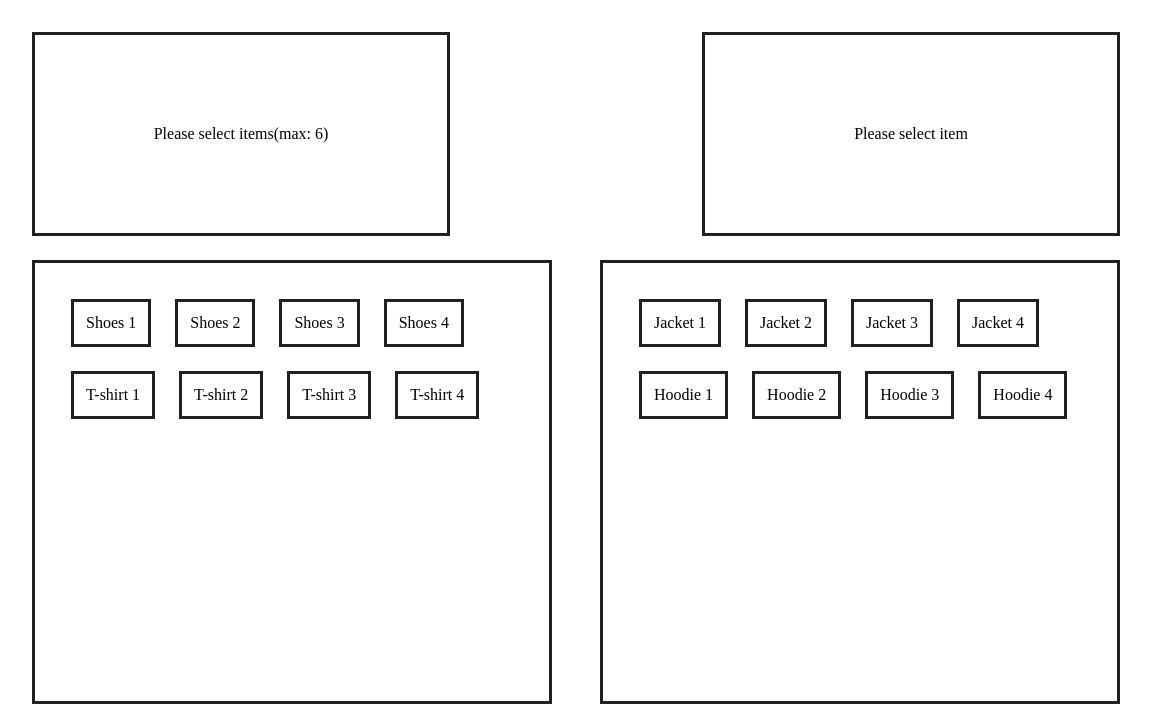
Test case: SideComponent › Cheking left side
Click the text "Shoes 1".
click(111, 323)  # box [71, 299, 151, 347]
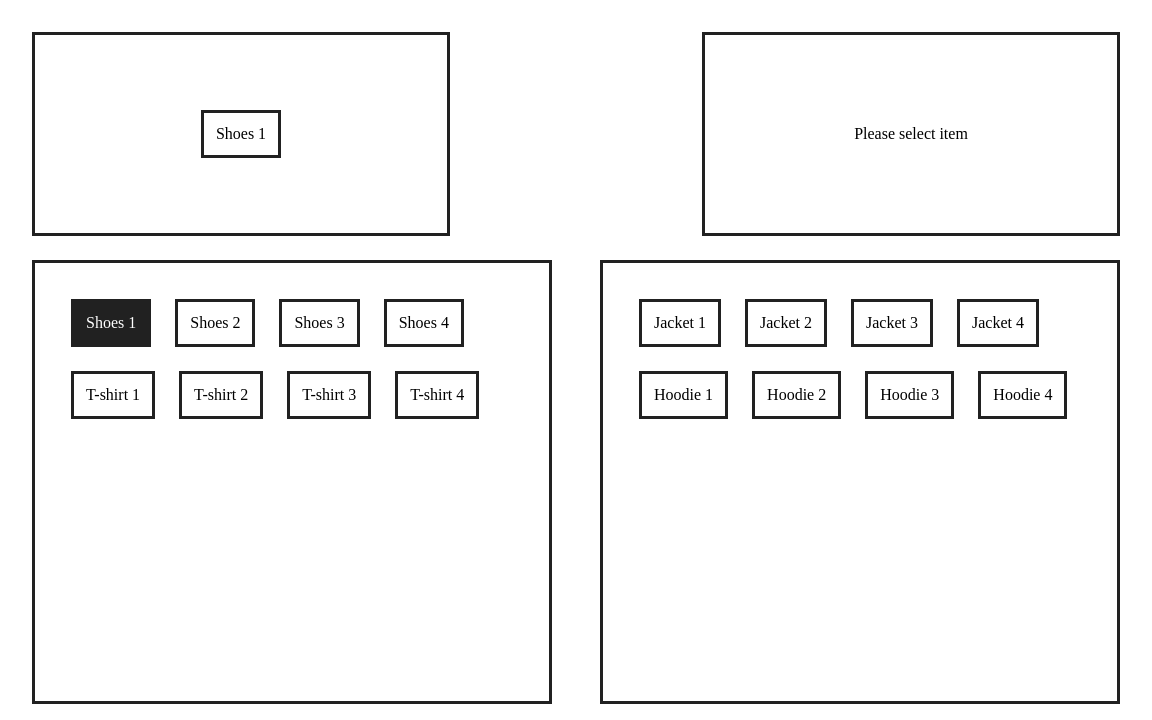
Click the text "Shoes 3".
click(320, 323)  # box [280, 299, 360, 347]
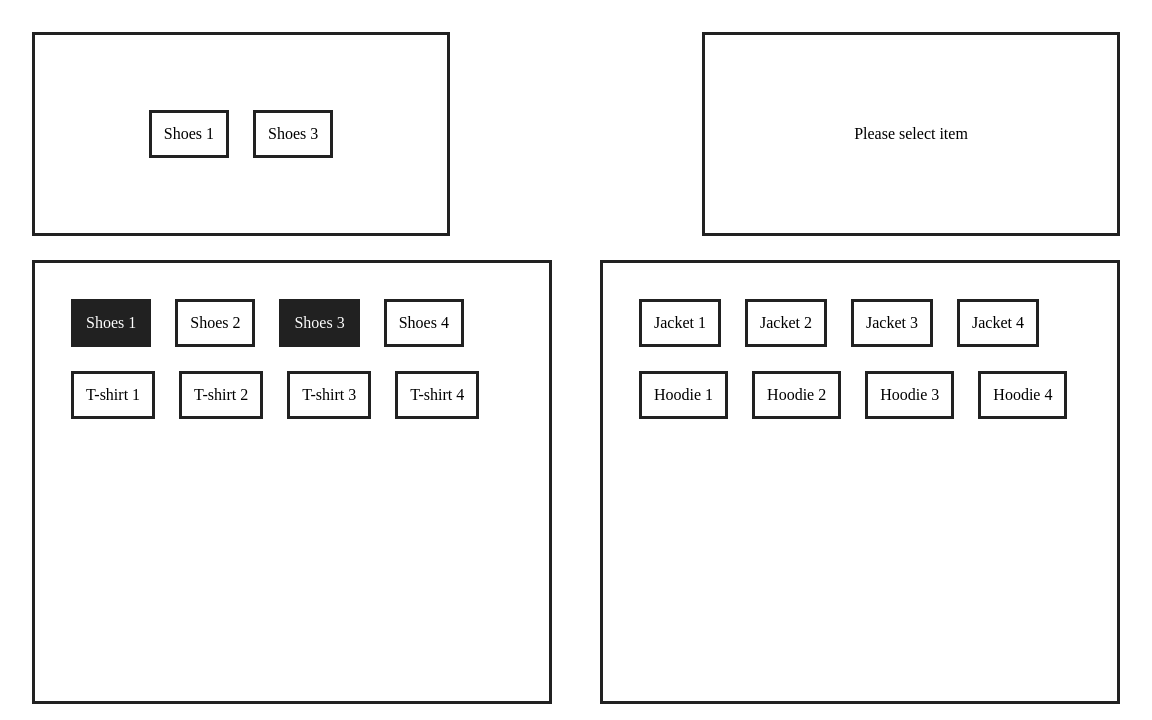
Result: the 1st text "Shoes 1" is shown at [149, 110, 229, 158]
Click the text with test id ".items-list > [data-cy=\"items-list-wrapper\"] > [data-cy=\"item-1\"]".
click(111, 323)  # box [71, 299, 151, 347]
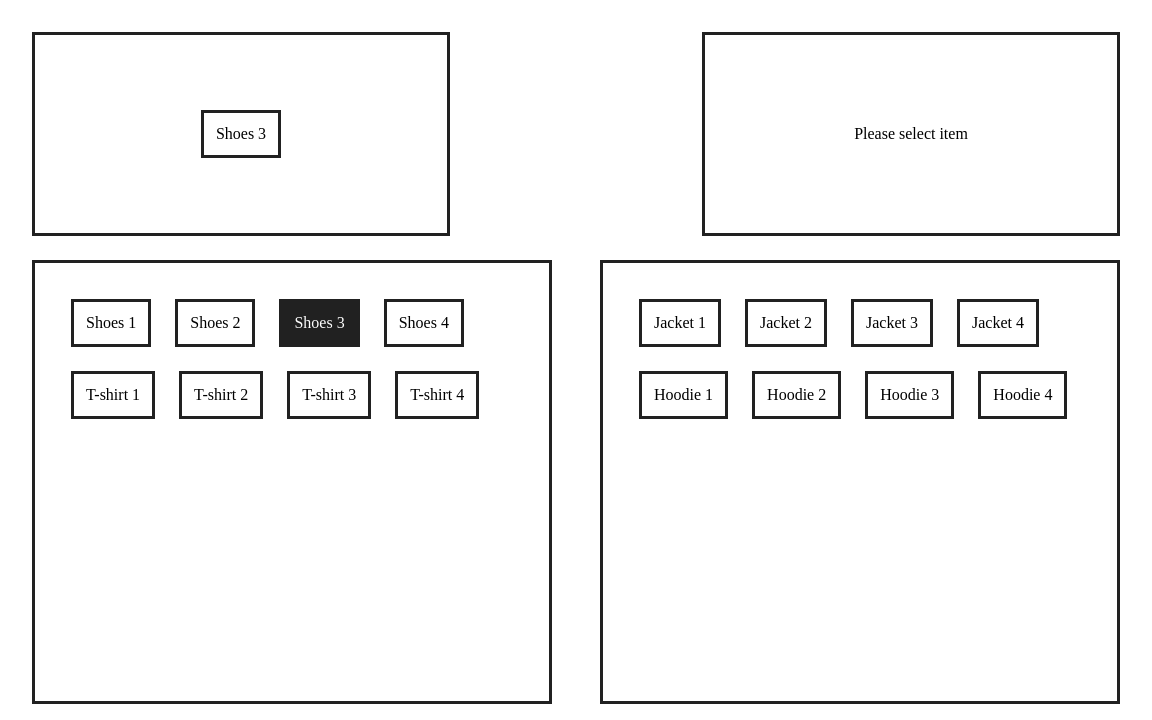
Click the text with test id ".items-list > [data-cy=\"items-list-wrapper\"] > [data-cy=\"item-3\"]".
click(320, 323)  # box [280, 299, 360, 347]
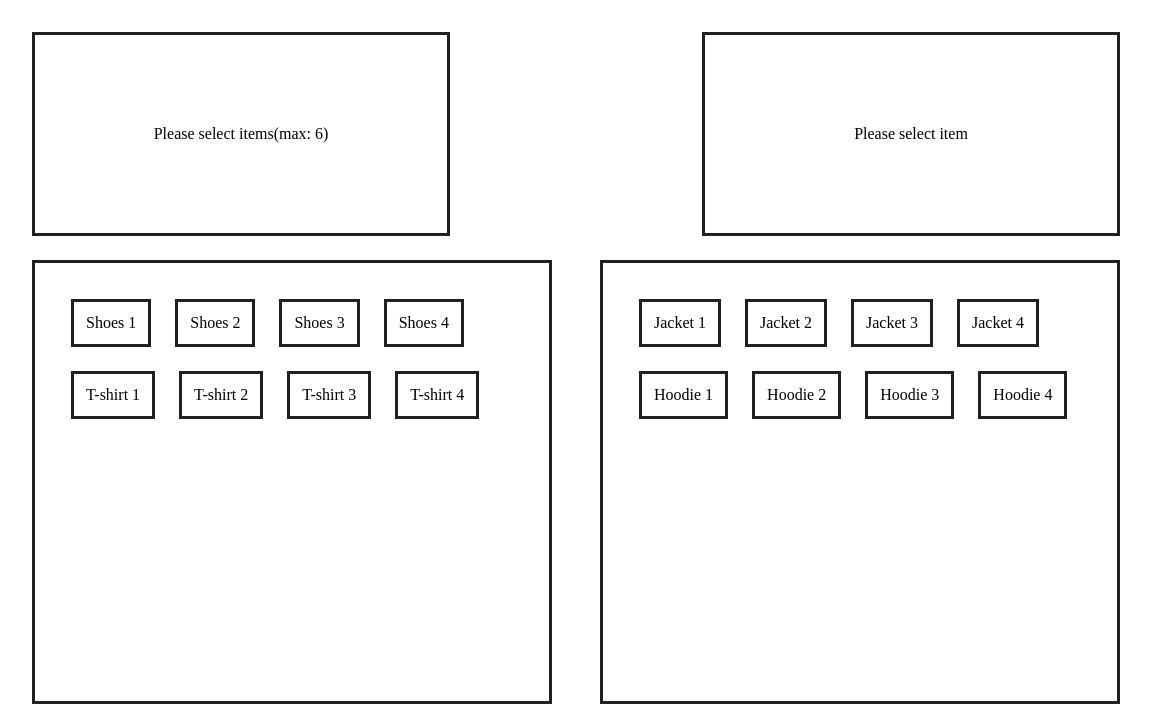
Result: the text with class "selected-items" reads "Please select items(max: 6)" at [154, 125, 329, 142]
